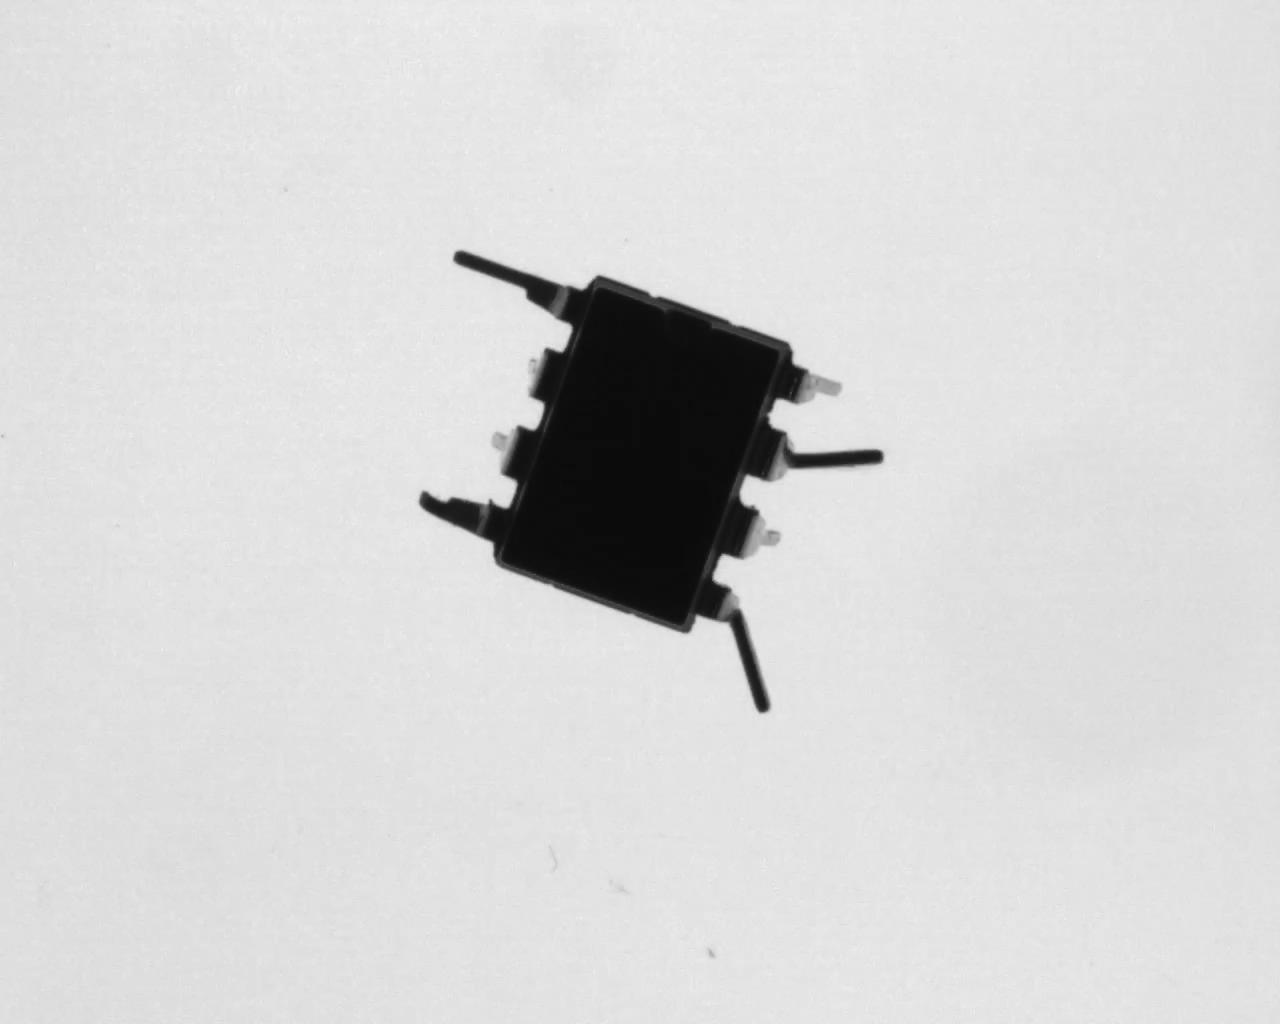Leg: (450, 246, 587, 326), (698, 579, 773, 717), (758, 414, 891, 487), (415, 484, 512, 545), (777, 358, 844, 414), (488, 423, 539, 484), (731, 505, 786, 561), (522, 344, 566, 404)
